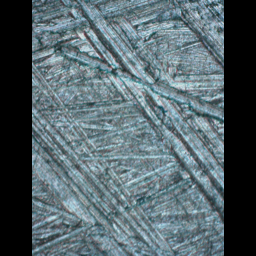d: (77, 0, 223, 236), (31, 64, 178, 255), (167, 0, 223, 70)
